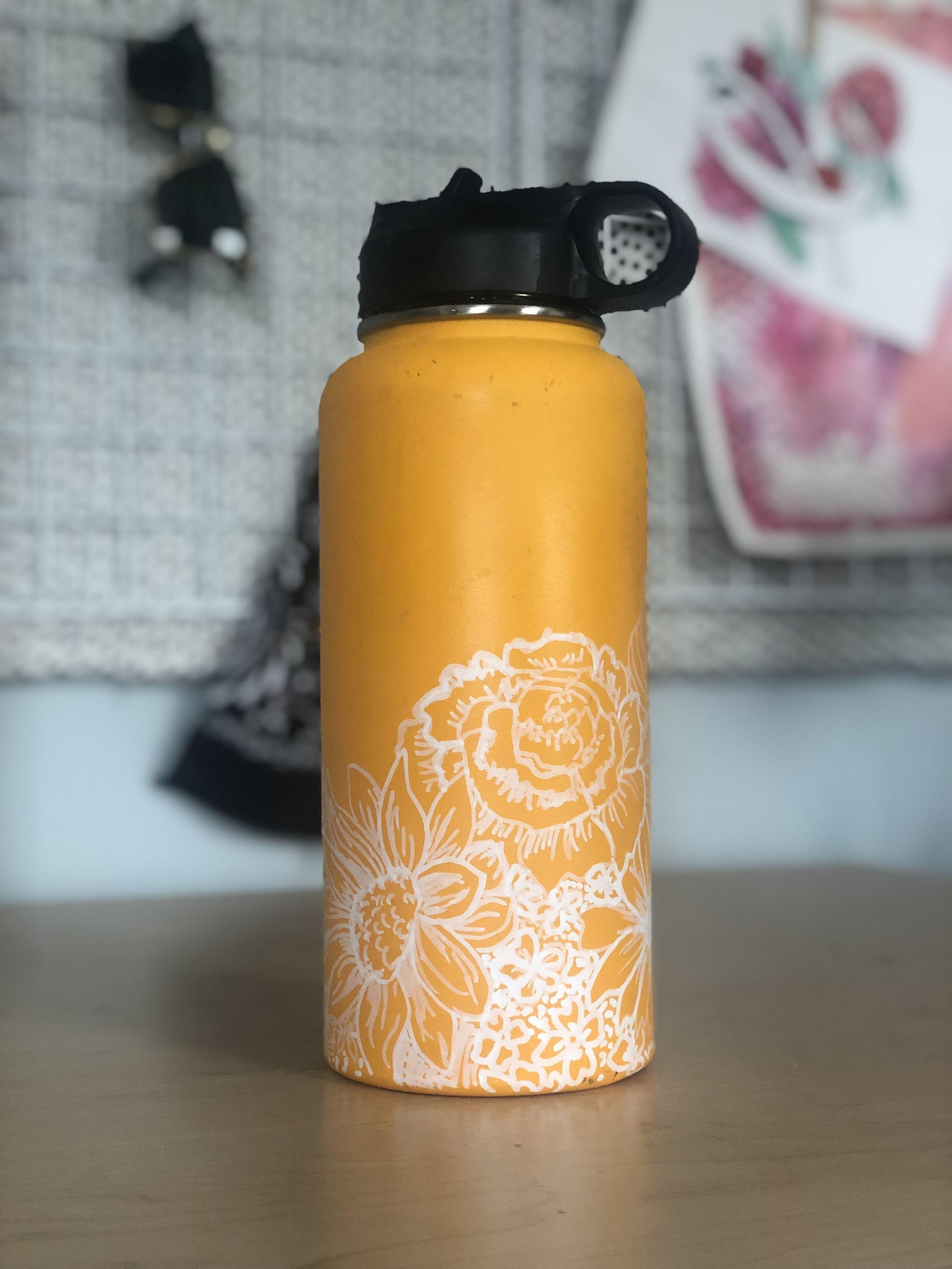gym bottle: (311, 168, 698, 1103)
